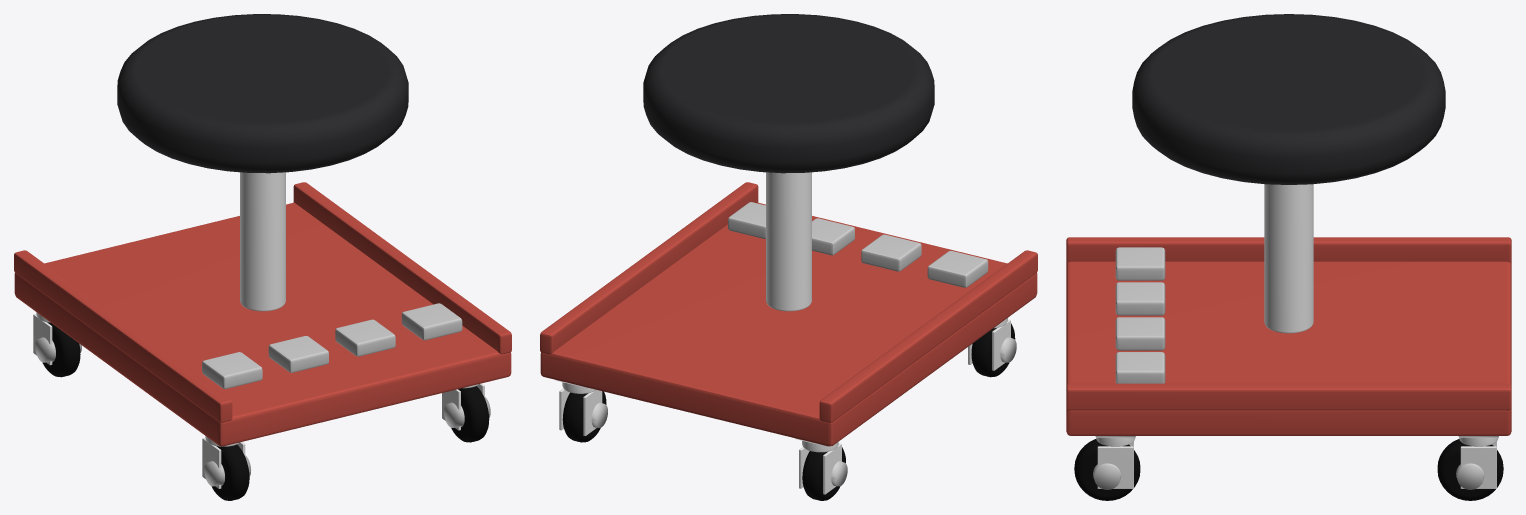
File: industrial.workshop.seat_creeper.glb
The picture shows the model from 3 angles, left to right: view 1: azimuth 30°, elevation 25°; view 2: azimuth 150°, elevation 25°; view 3: azimuth 270°, elevation 25°; orthographic projection. The views are drawn at different scales.
Parts seen in each view (by area): view 1: main__paint_c44, main__paint_222, main__chrome_eee, main__galv_ccc, main__rubber; view 2: main__paint_c44, main__paint_222, main__chrome_eee, main__galv_ccc, main__rubber; view 3: main__paint_c44, main__paint_222, main__chrome_eee, main__galv_ccc, main__rubber.
Part boxes in pixels (x1,y1,x2,y2): main__paint_c44: (14,182,511,446); main__paint_222: (117,14,408,173); main__chrome_eee: (33,172,484,488); main__galv_ccc: (35,303,490,486); main__rubber: (42,322,489,500); main__paint_c44: (540,182,1037,446); main__paint_222: (643,14,934,173); main__chrome_eee: (555,172,1010,494); main__galv_ccc: (591,202,1016,486); main__rubber: (562,323,1015,500); main__paint_c44: (1066,237,1511,435); main__paint_222: (1132,14,1445,184); main__chrome_eee: (1095,184,1498,488); main__galv_ccc: (1093,247,1484,489); main__rubber: (1074,439,1503,500).
Size of the model in its own units: 0.44 by 0.485 by 0.54.
